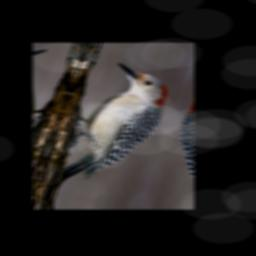Woodpecker: (53, 58, 178, 189)
